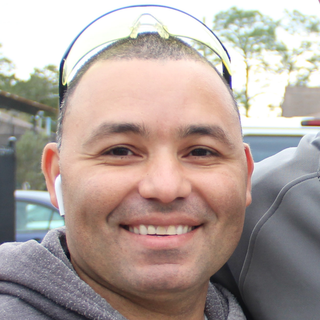eye: (94, 140, 145, 165), (179, 141, 228, 164)
